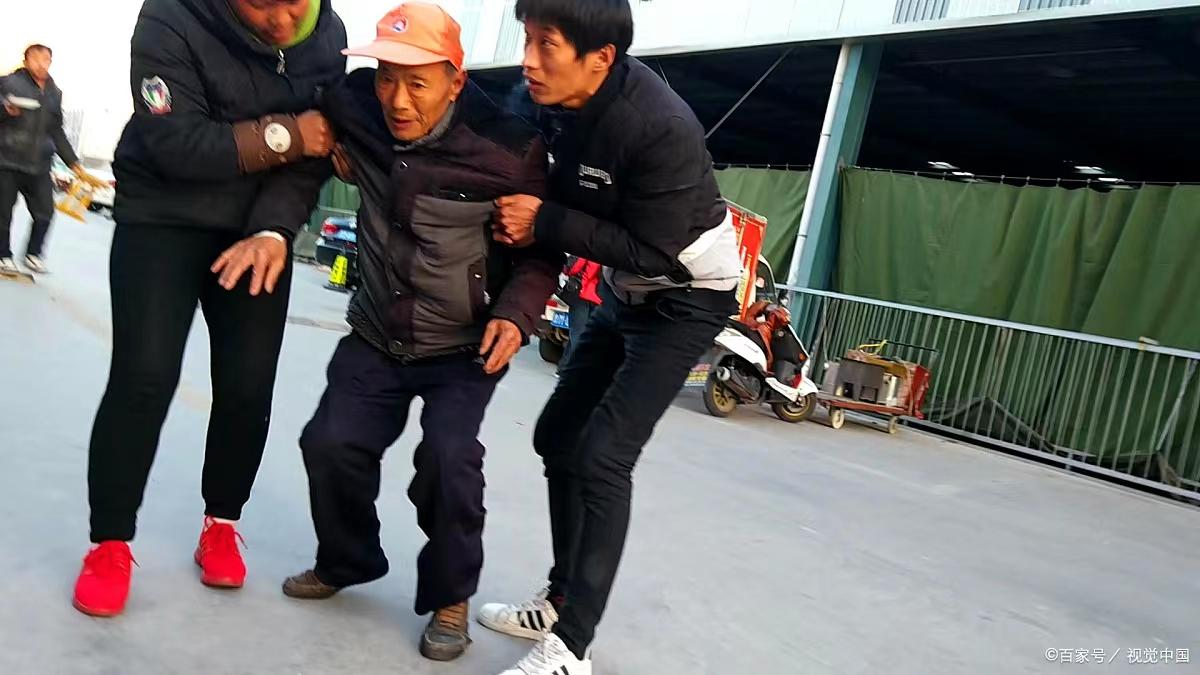bending: (495, 4, 755, 675), (261, 15, 526, 656), (75, 1, 329, 607)
up: (1, 37, 82, 285)
